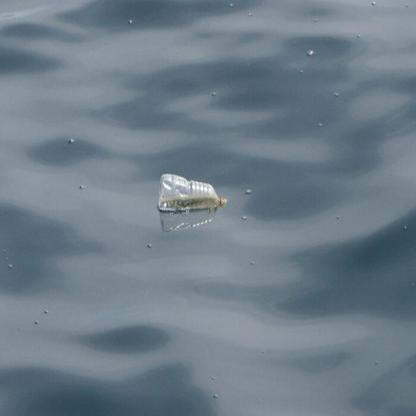plastic bottle: (158, 172, 228, 213)
